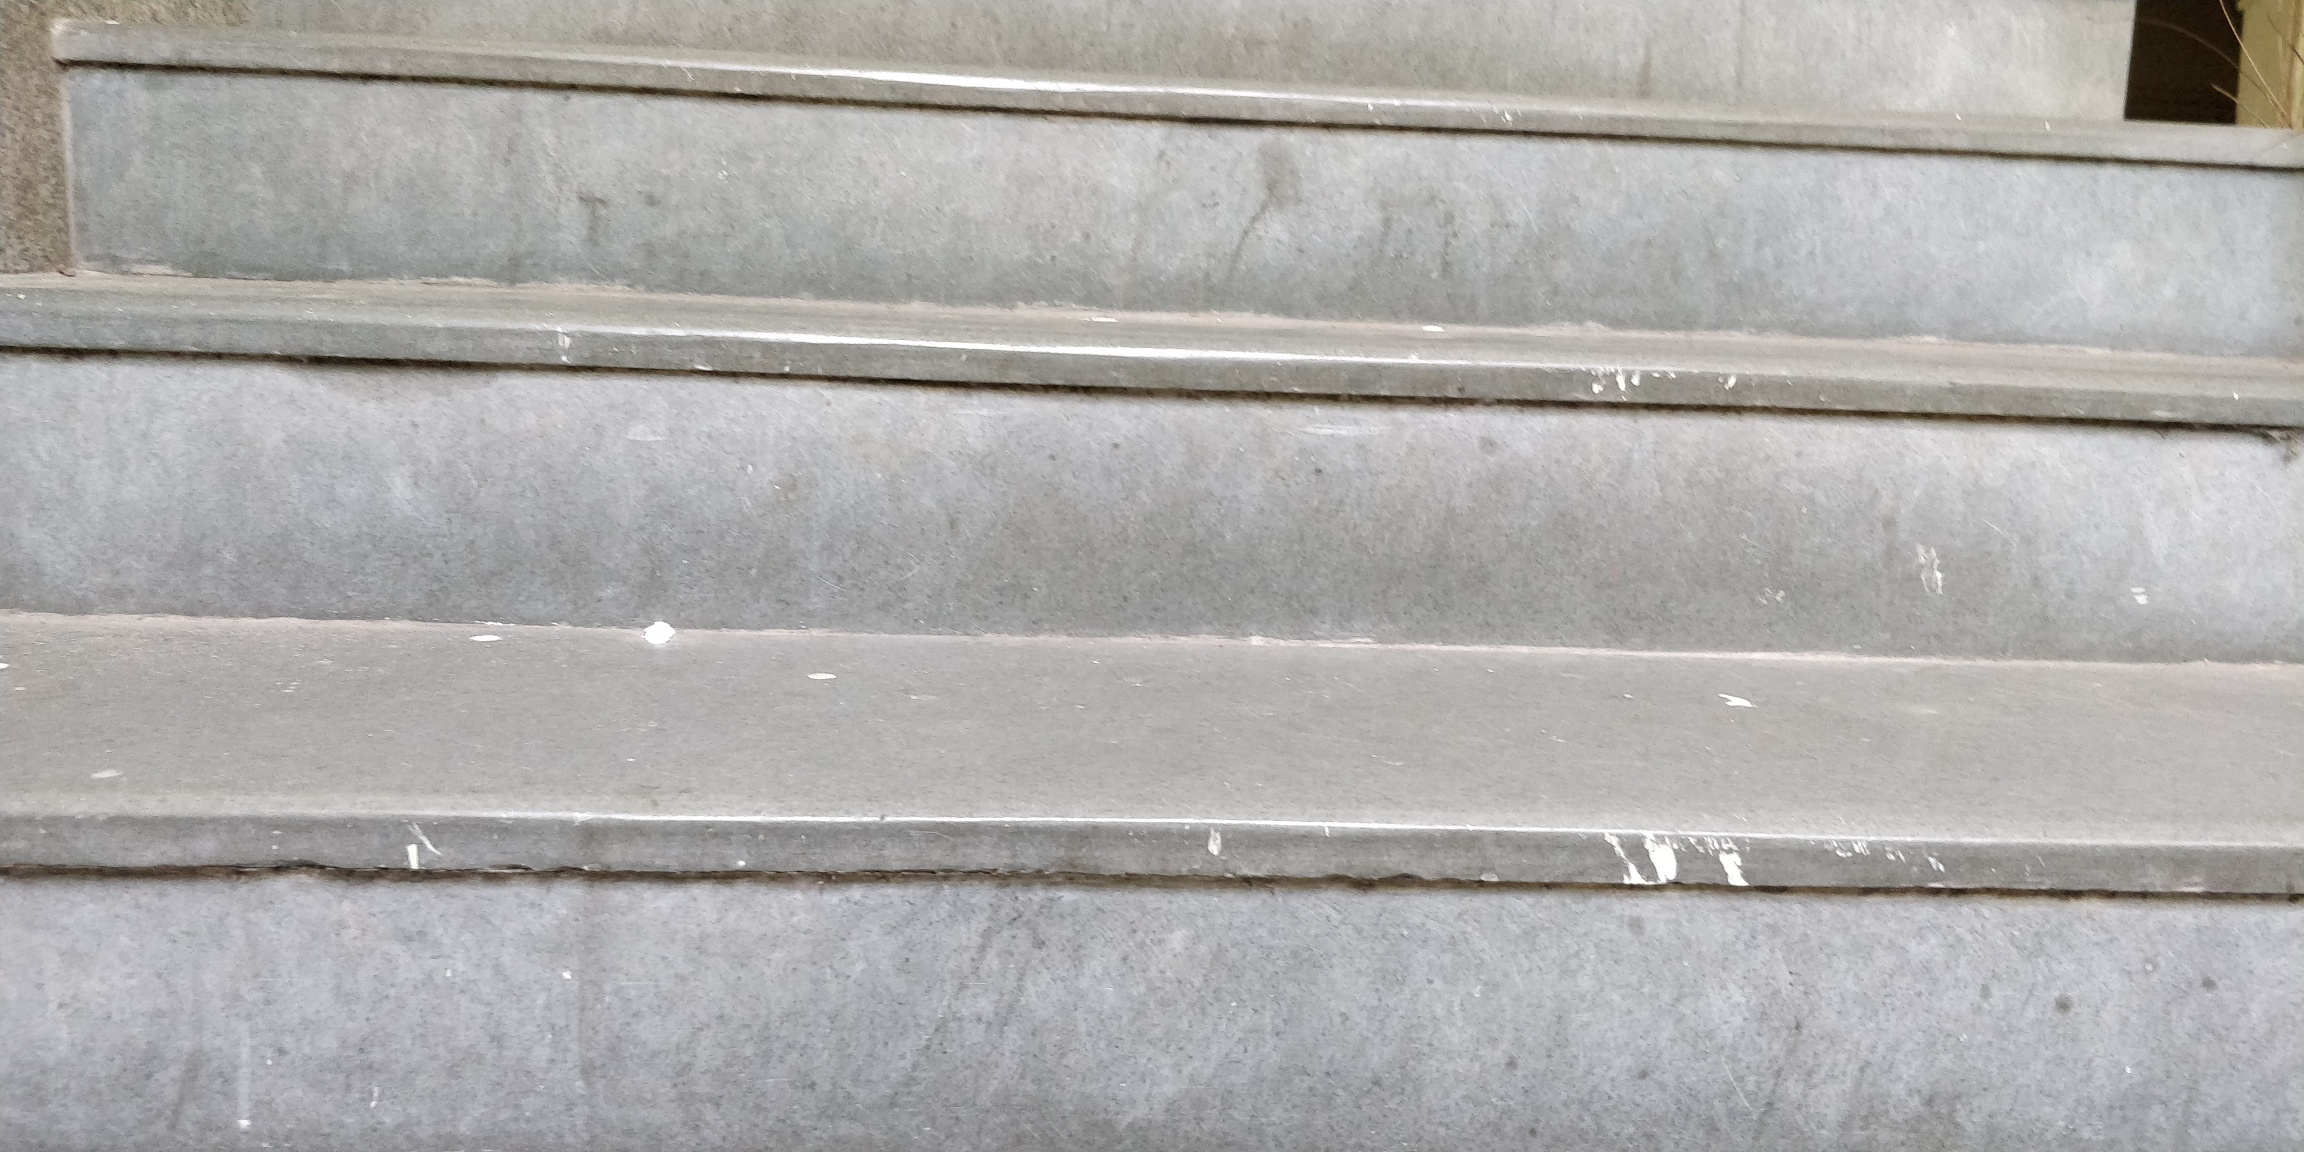stairs_up: (13, 21, 2304, 1108)
